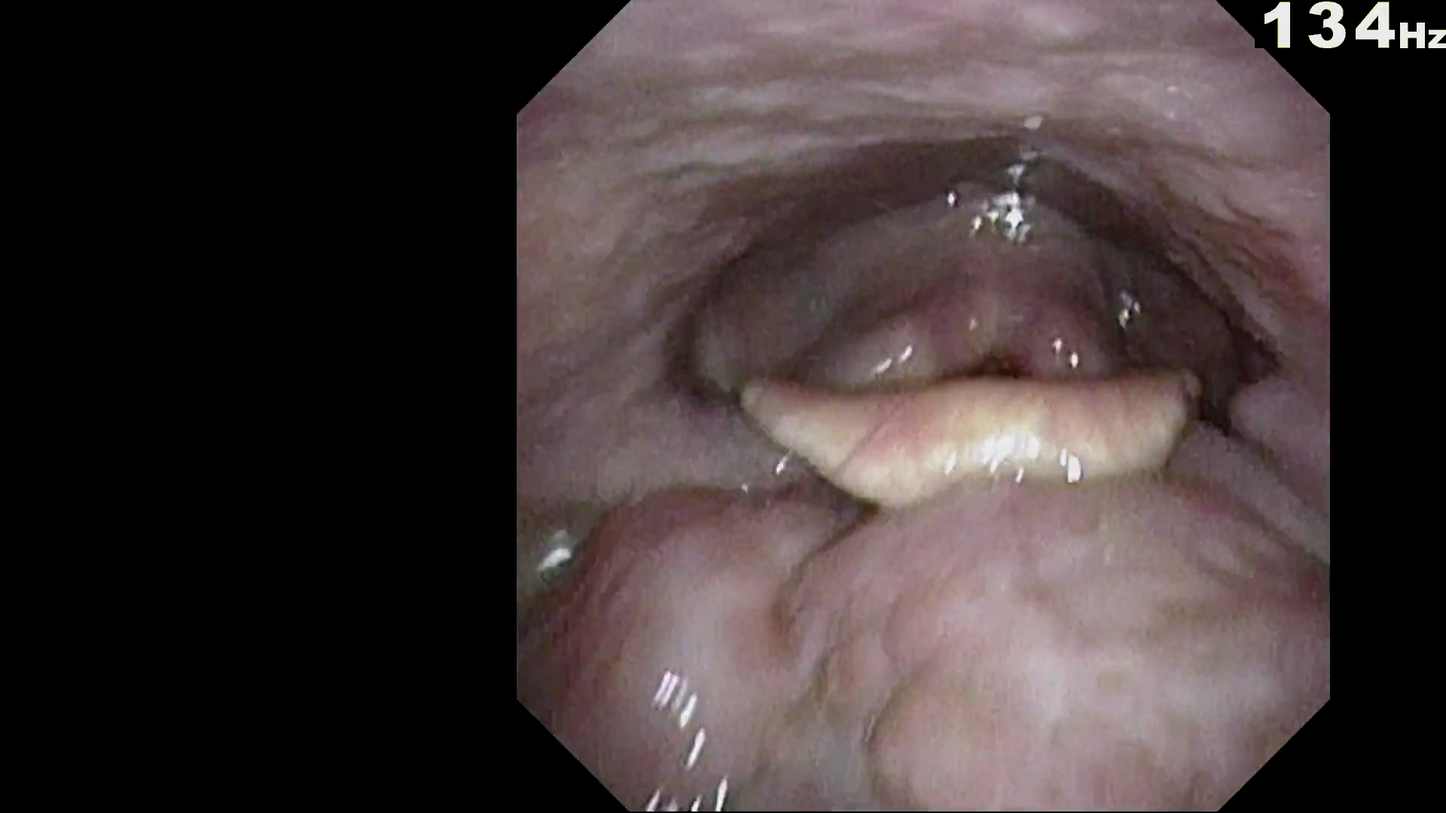epiglottis: (729, 347, 1196, 466)
